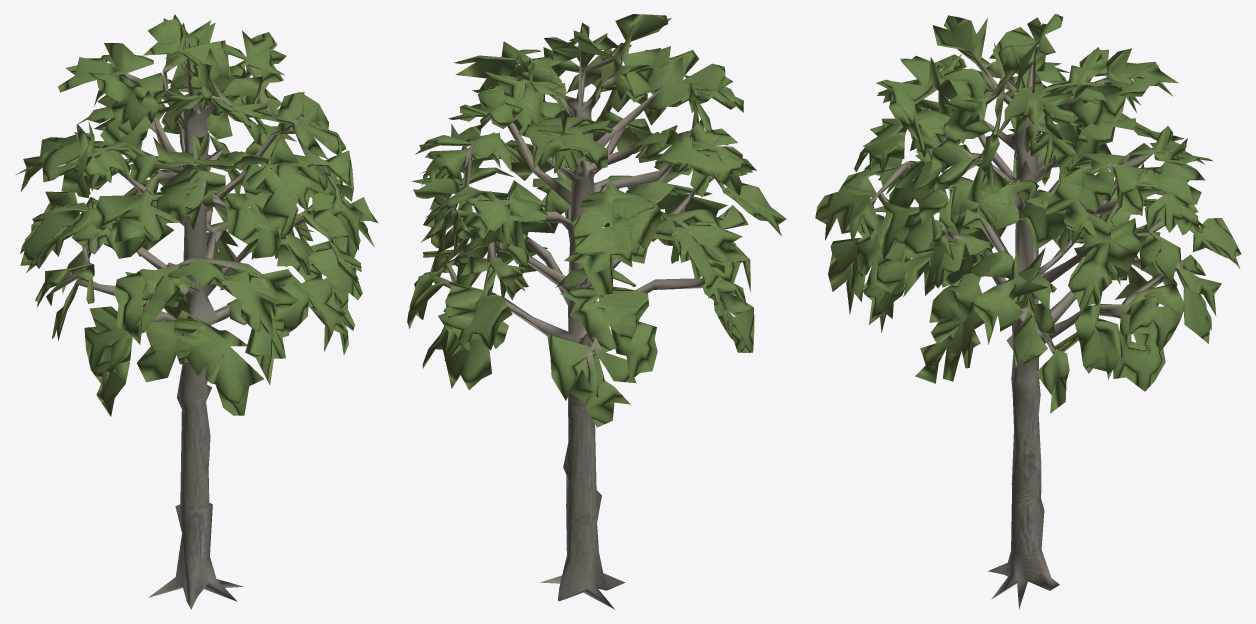
The model's file is tree_ash.glb.
3 renders of one model, left to right at view 1: azimuth 30°, elevation 25°; view 2: azimuth 150°, elevation 25°; view 3: azimuth 270°, elevation 25°, orthographic. The views are drawn at different scales.
Visible parts, largest first — view 1: tripo_node_d44f3cfb-3d1e-4966-a6f4-27dc76267904; view 2: tripo_node_d44f3cfb-3d1e-4966-a6f4-27dc76267904; view 3: tripo_node_d44f3cfb-3d1e-4966-a6f4-27dc76267904.
Boxes of the visible parts, x1,y1,x2,y2 form: tripo_node_d44f3cfb-3d1e-4966-a6f4-27dc76267904: (16,14,378,609); tripo_node_d44f3cfb-3d1e-4966-a6f4-27dc76267904: (407,14,786,609); tripo_node_d44f3cfb-3d1e-4966-a6f4-27dc76267904: (815,14,1241,609).
Bounding box in the file's own units: 0.6069 × 1 × 0.6804.
Materials: 1 (1 with a texture image).
